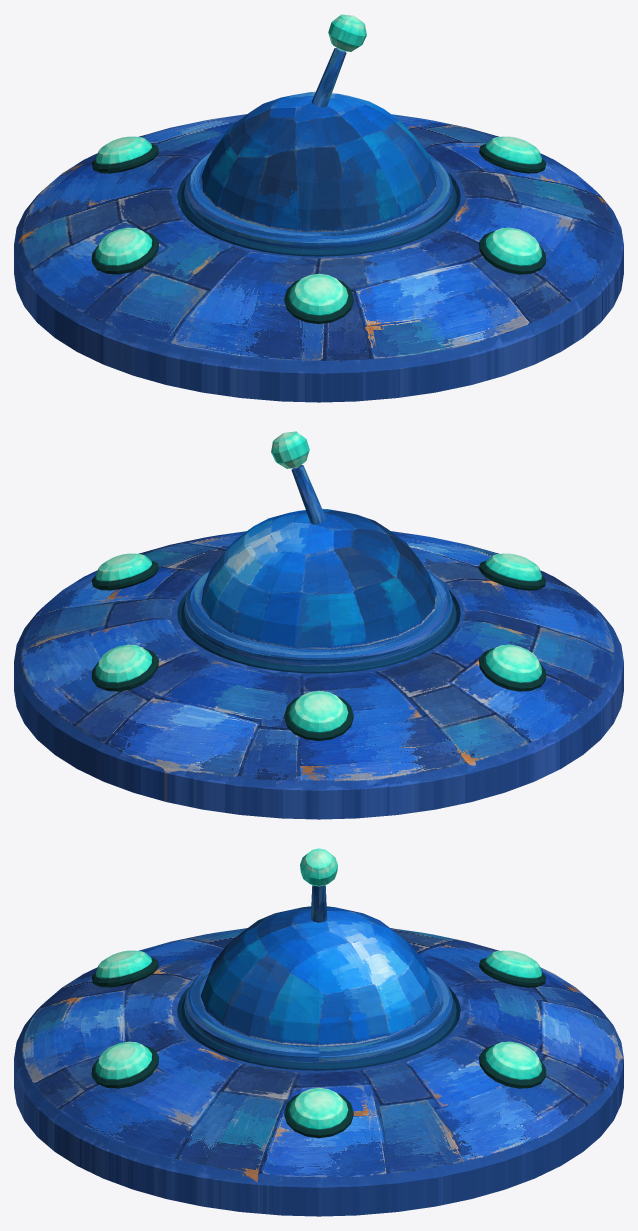
Rendered from ufo-parts.obj.
The picture shows the model from 3 angles, top to bottom: view 1: azimuth 30°, elevation 25°; view 2: azimuth 150°, elevation 25°; view 3: azimuth 270°, elevation 25°; orthographic projection.
Parts seen in each view (by area): view 1: Outer_Ring, Dome, Dome_Collar, Bearing, Rim_Lens_03, Rim_Lens_02, Rim_Lens_04, Rim_Lens_01, Rim_Lens_05, Antenna_Tip, Antenna_Stem, Rim_Bezel_03 (+4 smaller); view 2: Outer_Ring, Dome, Dome_Collar, Bearing, Rim_Lens_05, Rim_Lens_04, Rim_Lens_06, Rim_Lens_01, Rim_Lens_03, Antenna_Tip, Antenna_Stem, Rim_Bezel_05 (+4 smaller); view 3: Outer_Ring, Dome, Dome_Collar, Bearing, Rim_Lens_01, Rim_Lens_02, Rim_Lens_06, Antenna_Tip, Rim_Lens_03, Rim_Lens_05, Rim_Bezel_01, Rim_Bezel_02 (+4 smaller).
Part boxes in pixels (box(x1,y1,x2,y2)): Outer_Ring: box(14, 114, 623, 402); Dome: box(201, 92, 436, 232); Dome_Collar: box(185, 152, 452, 249); Bearing: box(181, 182, 456, 256); Rim_Lens_03: box(289, 273, 348, 315); Rim_Lens_02: box(485, 227, 541, 265); Rim_Lens_04: box(96, 227, 152, 265); Rim_Lens_01: box(485, 136, 541, 164); Rim_Lens_05: box(96, 136, 152, 164); Antenna_Tip: box(328, 14, 366, 51); Antenna_Stem: box(311, 48, 346, 107); Rim_Bezel_03: box(284, 279, 353, 323); Outer_Ring: box(14, 531, 623, 819); Dome: box(201, 509, 436, 649); Dome_Collar: box(185, 569, 452, 666); Bearing: box(181, 599, 456, 673); Rim_Lens_05: box(289, 690, 348, 732); Rim_Lens_04: box(485, 644, 541, 682); Rim_Lens_06: box(96, 644, 152, 682); Rim_Lens_01: box(96, 553, 152, 581); Rim_Lens_03: box(485, 553, 541, 581); Antenna_Tip: box(271, 431, 309, 468); Antenna_Stem: box(291, 465, 326, 524); Rim_Bezel_05: box(284, 696, 353, 740); Outer_Ring: box(14, 928, 623, 1216); Dome: box(200, 906, 437, 1046); Dome_Collar: box(185, 966, 452, 1063); Bearing: box(181, 996, 456, 1070); Rim_Lens_01: box(289, 1087, 348, 1129); Rim_Lens_02: box(96, 1041, 152, 1079); Rim_Lens_06: box(485, 1041, 541, 1079); Antenna_Tip: box(300, 848, 337, 886); Rim_Lens_03: box(96, 950, 152, 978); Rim_Lens_05: box(485, 950, 541, 978); Rim_Bezel_01: box(284, 1093, 353, 1137); Rim_Bezel_02: box(91, 1045, 158, 1088).
Bounding box in the file's own units: 2.6 × 1.4 × 2.6.
Materials: 8 (7 with a texture image).
